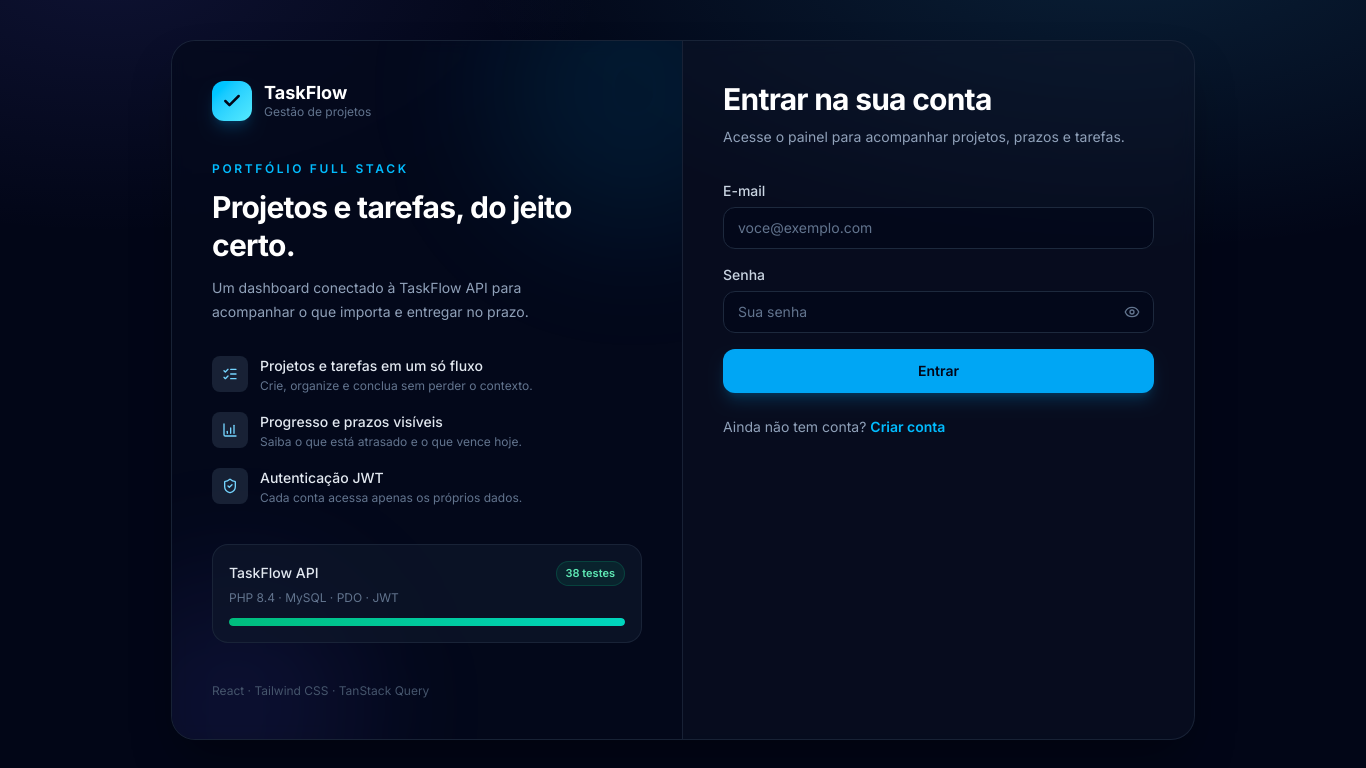
LoginPage › shows a friendly message for invalid credentials
This screenshot has width=1366, height=768.
Type "sandro@example.com" into the field labelled "E-mail" at (938, 228), box [723, 207, 1154, 249]
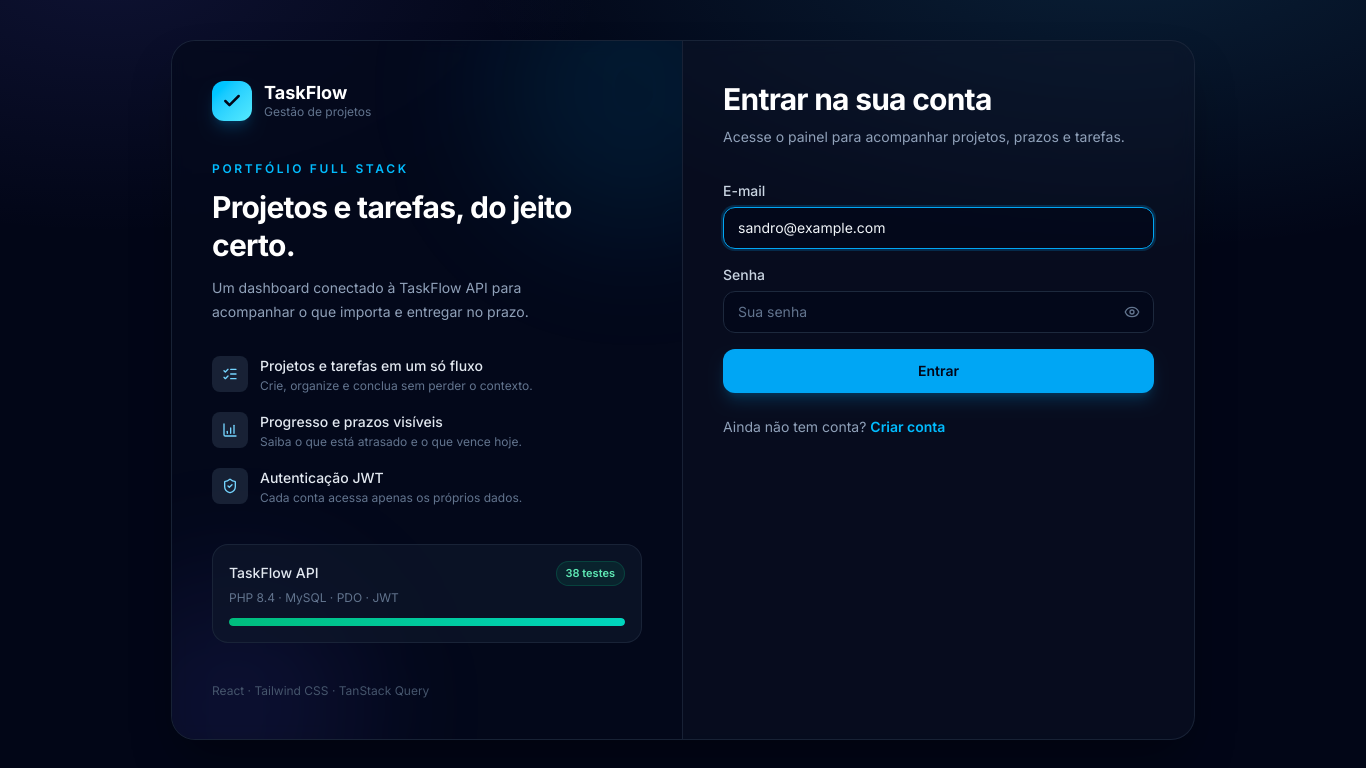
Type "wrong-password" into the password field labelled "Senha" at (938, 312), box [723, 291, 1154, 333]
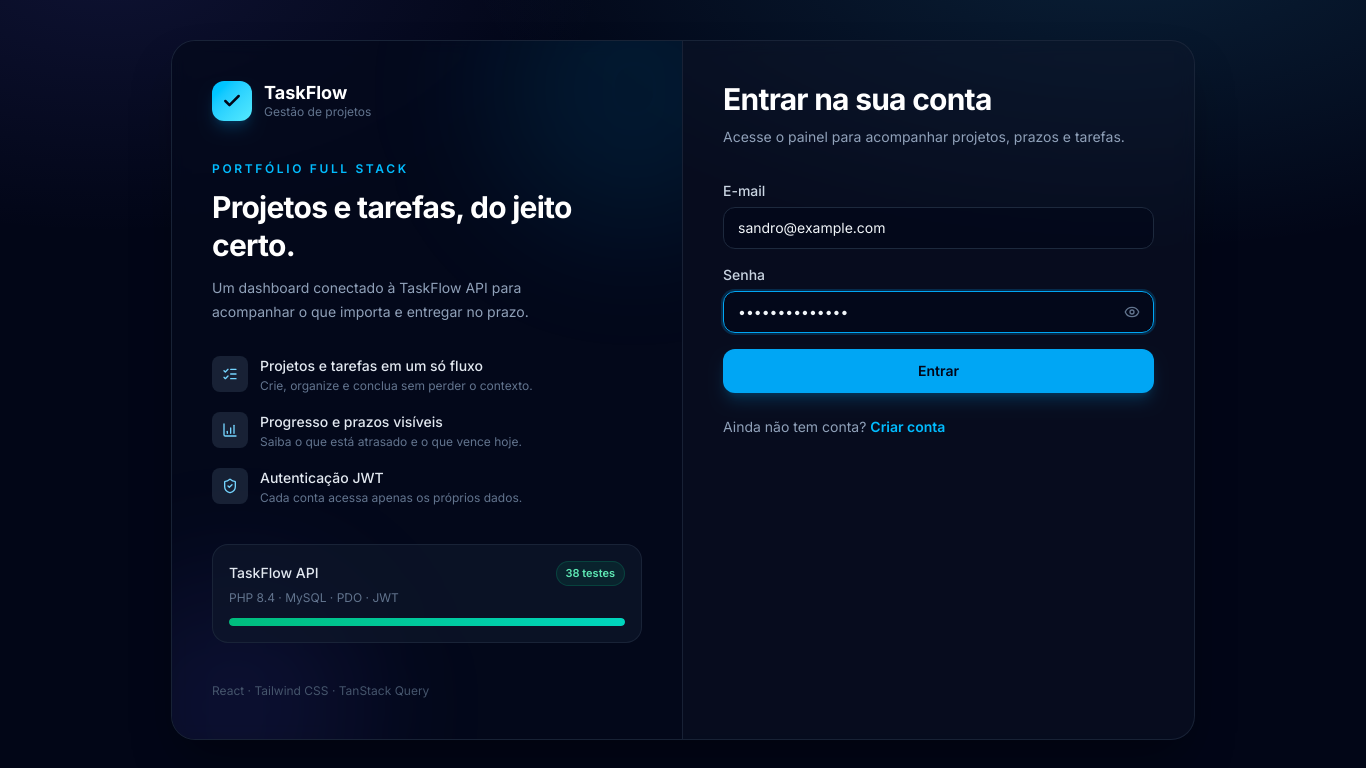
Click the button "Entrar" at (938, 371), box [723, 349, 1154, 393]
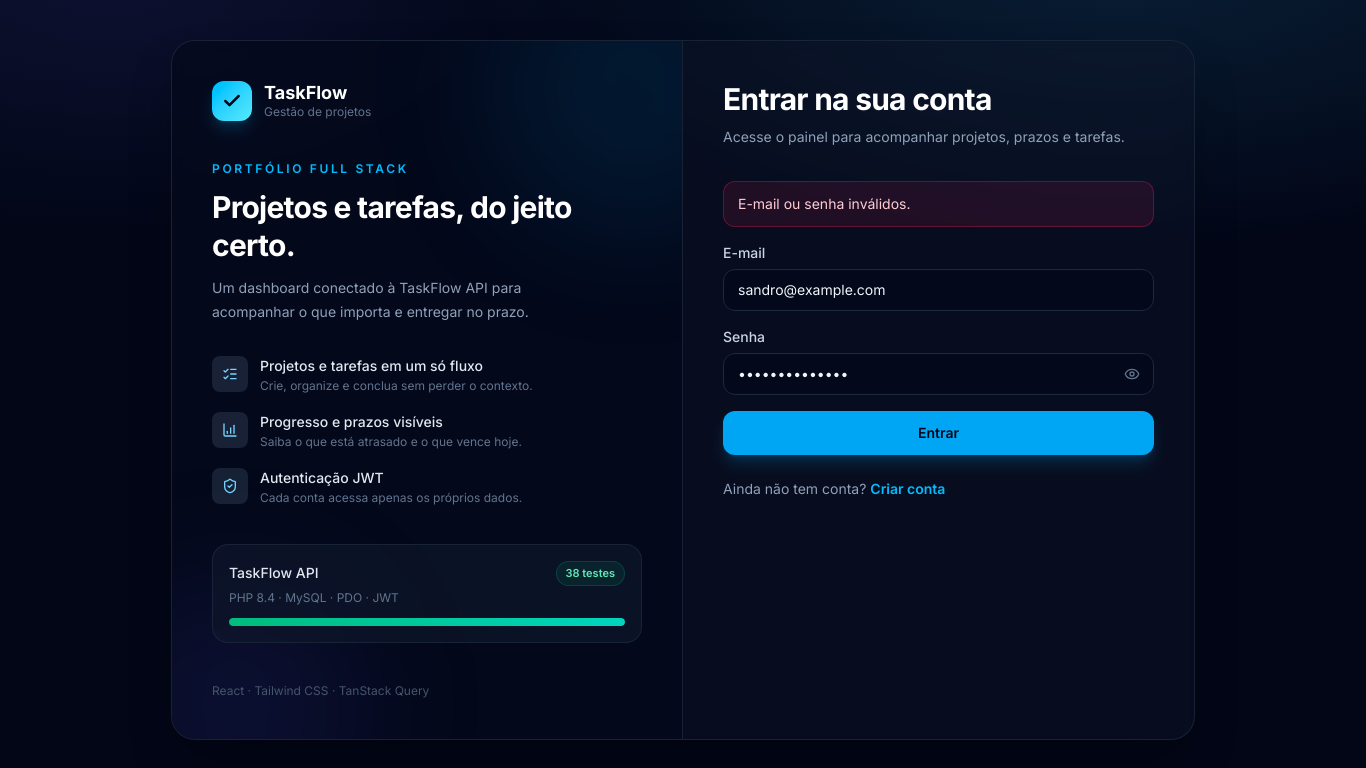
Expected: the text "E-mail ou senha inválidos." is shown, [723, 181, 1154, 227]
